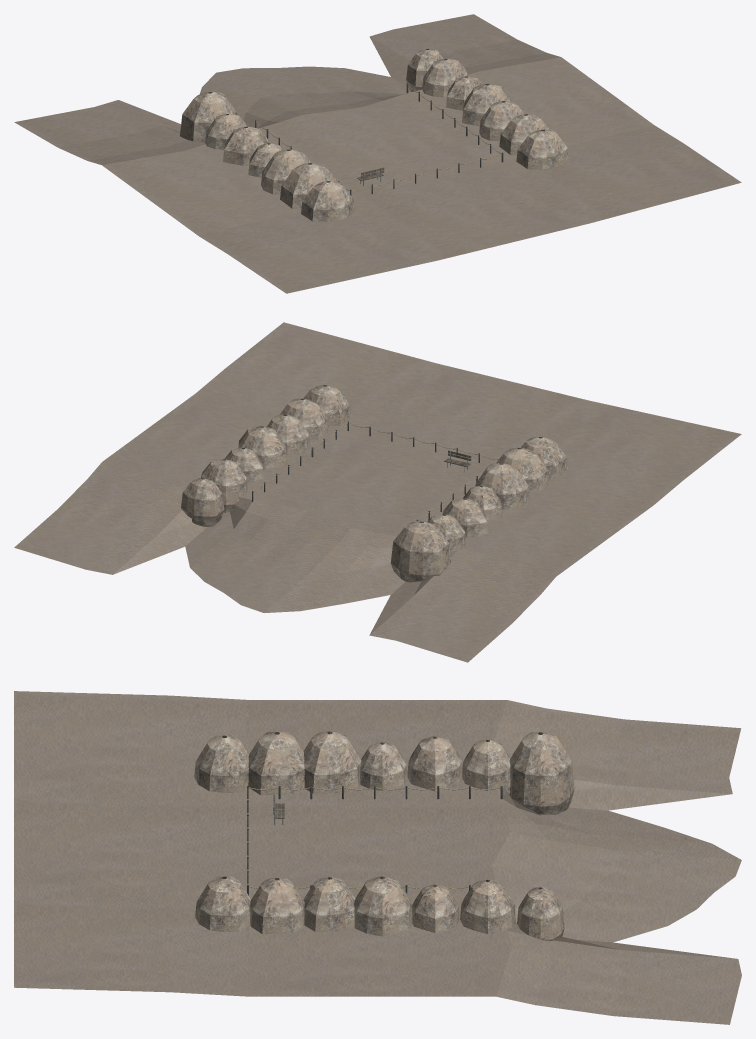
File: secluded_beach.glb
The picture shows the model from 3 angles, top to bottom: view 1: azimuth 30°, elevation 25°; view 2: azimuth 150°, elevation 25°; view 3: azimuth 270°, elevation 25°; orthographic projection. The views are drawn at different scales.
Parts seen in each view (by area): view 1: secluded_beach_BakedForeground; view 2: secluded_beach_BakedForeground; view 3: secluded_beach_BakedForeground, secluded_beach_rope.
Boxes of the visible parts, x1,y1,x2,y2 form: secluded_beach_BakedForeground: [14, 14, 741, 293]; secluded_beach_BakedForeground: [14, 322, 741, 662]; secluded_beach_BakedForeground: [14, 691, 741, 1024]; secluded_beach_rope: [247, 787, 500, 888].
Size of what is drawn, in the model's own units: 36 by 5.75 by 37.33.
Materials: 6 (4 with a texture image).
